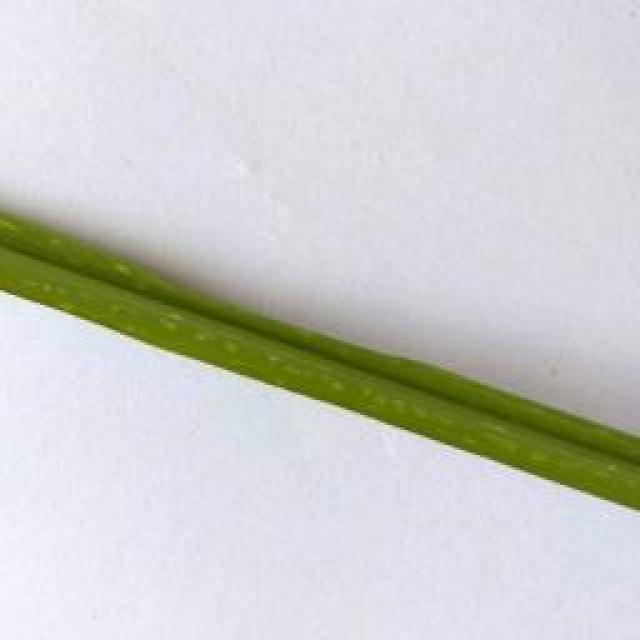Healthy-Plant: (0, 214, 640, 515)
